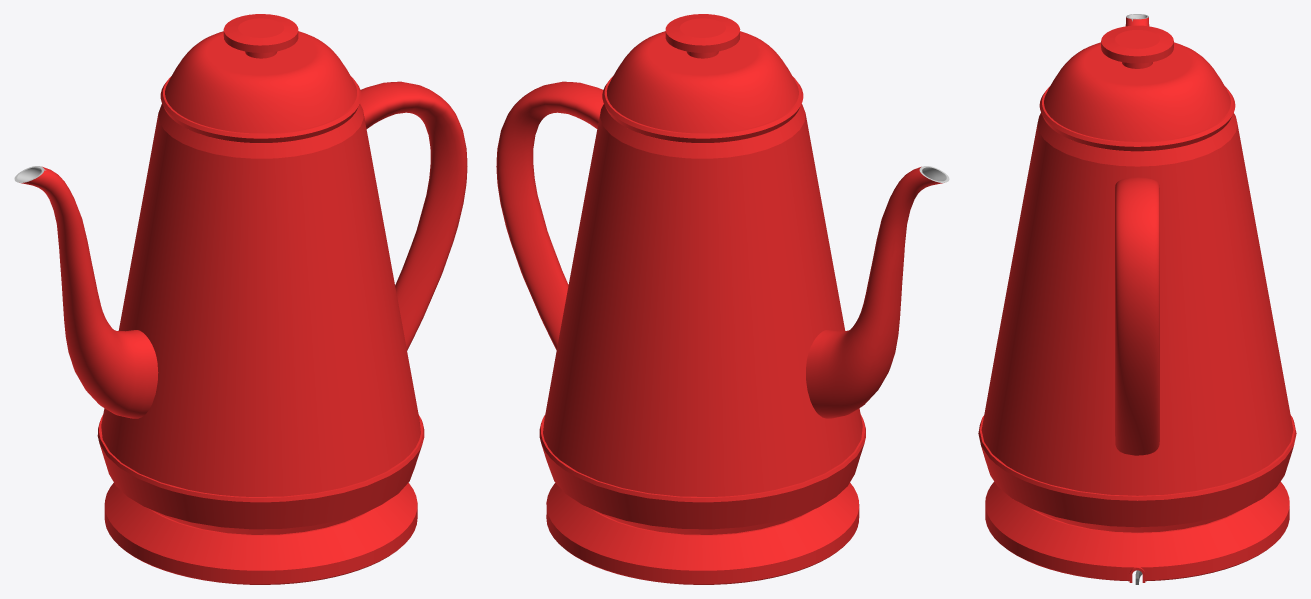
File: tea.glb
3 renders of one model, left to right at view 1: azimuth 30°, elevation 25°; view 2: azimuth 150°, elevation 25°; view 3: azimuth 270°, elevation 25°, orthographic. The views are drawn at different scales.
Visible parts, largest first — view 1: body, 蓋, 足; view 2: body, 蓋, 足; view 3: body, 蓋, 足.
Boxes of the visible parts, left/top/right/bottom form: body: left=14, top=81, right=467, bottom=534; 蓋: left=160, top=14, right=361, bottom=142; 足: left=104, top=483, right=417, bottom=584; body: left=496, top=81, right=949, bottom=534; 蓋: left=602, top=14, right=803, bottom=142; 足: left=546, top=483, right=859, bottom=584; body: left=978, top=14, right=1296, bottom=532; 蓋: left=1039, top=25, right=1235, bottom=151; 足: left=985, top=481, right=1289, bottom=584.
Size of the model in its own units: 0.2889 by 0.3046 by 0.1837.
